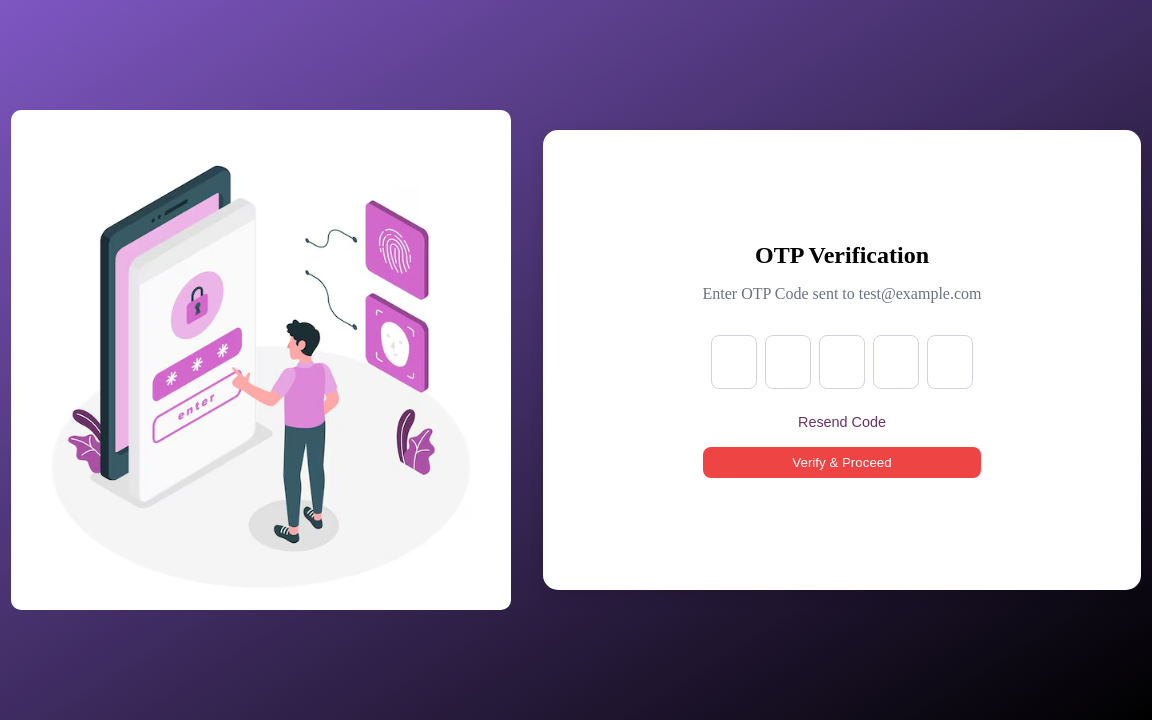
Test case: OTPVerification Component › successfully verifies OTP and navigates to sign-in
The image size is (1152, 720).
# Fill in OTP inputs with digits "1", "2", "3", "4", "5"
Type "1" into the 1st field. click: (734, 362)
box: top-left (711, 335), bottom-right (757, 389)
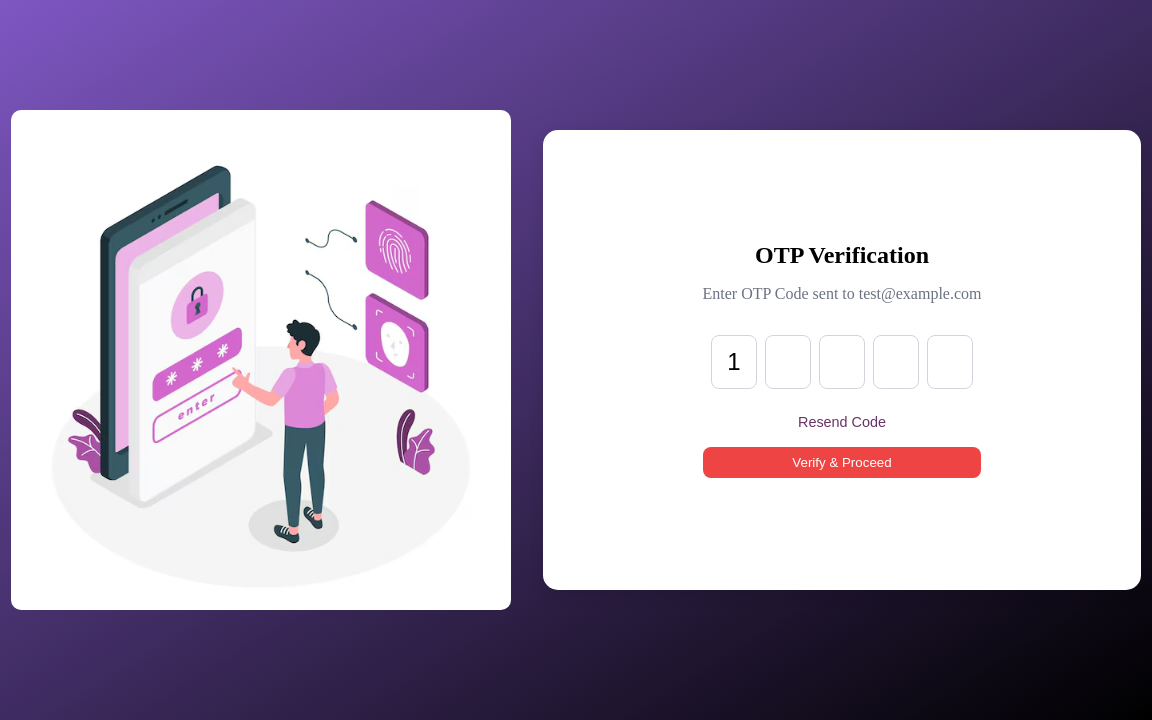
Type "2" into the 2nd field. click: (788, 362)
box: top-left (765, 335), bottom-right (811, 389)
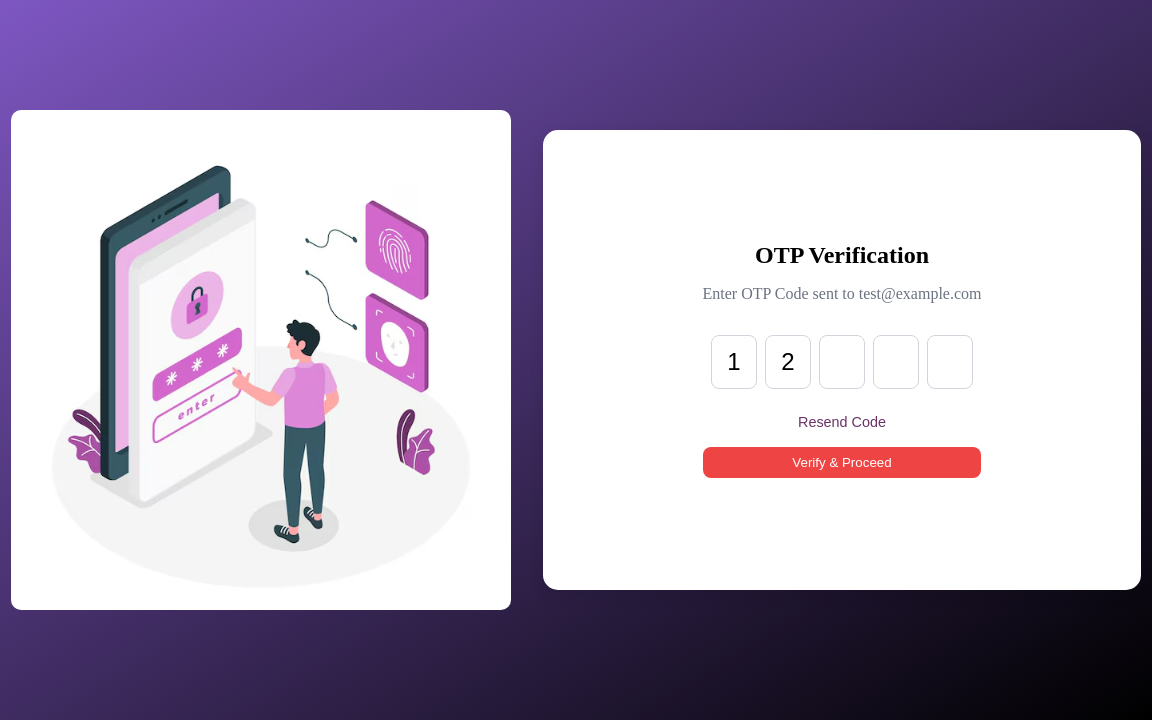
Type "3" into the 3rd field. click: (842, 362)
box: top-left (819, 335), bottom-right (865, 389)
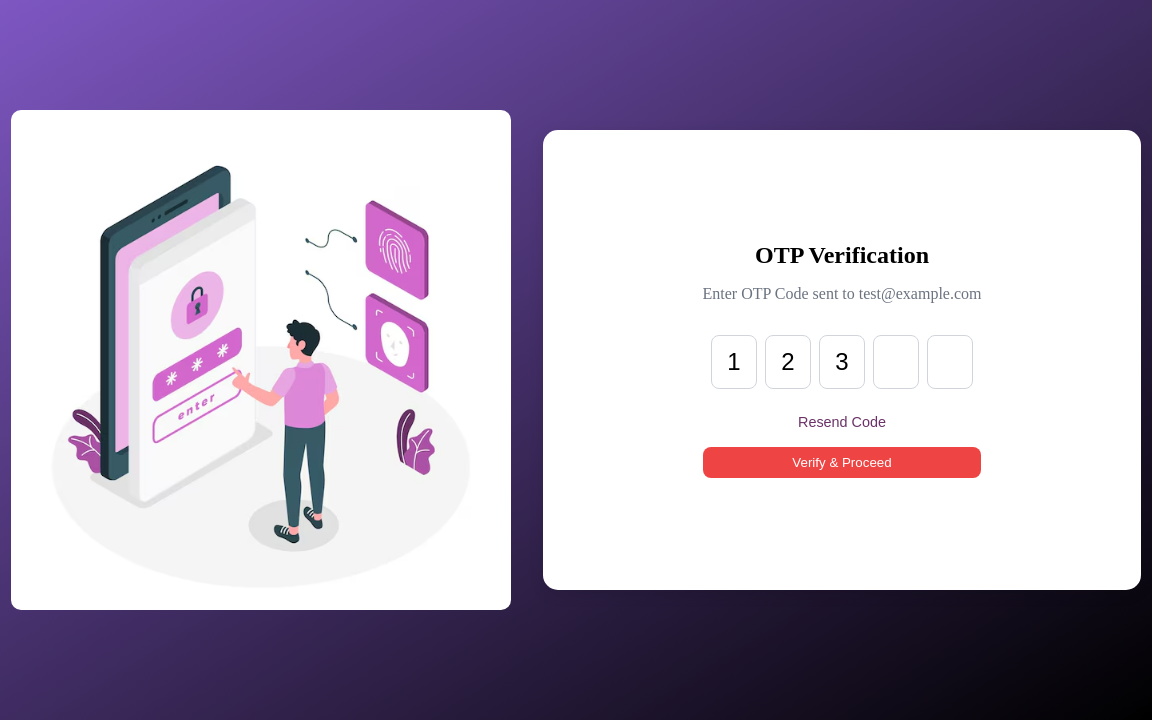
Type "4" into the 4th field. click: (896, 362)
box: top-left (873, 335), bottom-right (919, 389)
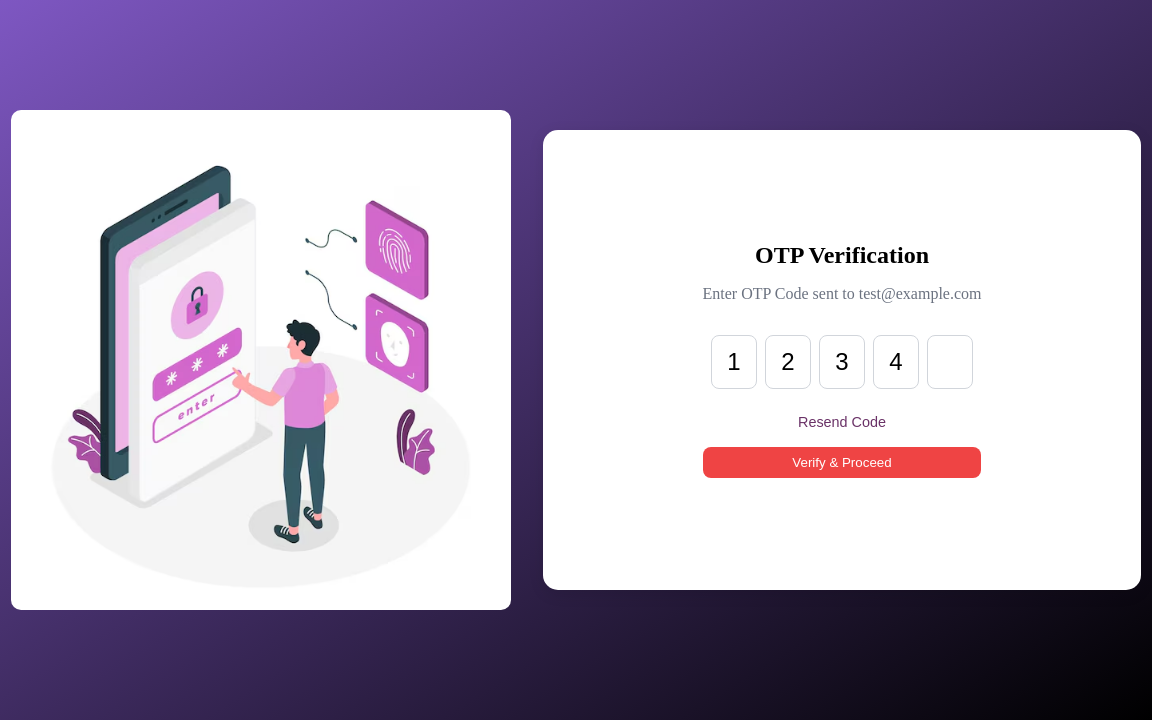
Type "5" into the 5th field. click: (950, 362)
box: top-left (927, 335), bottom-right (973, 389)
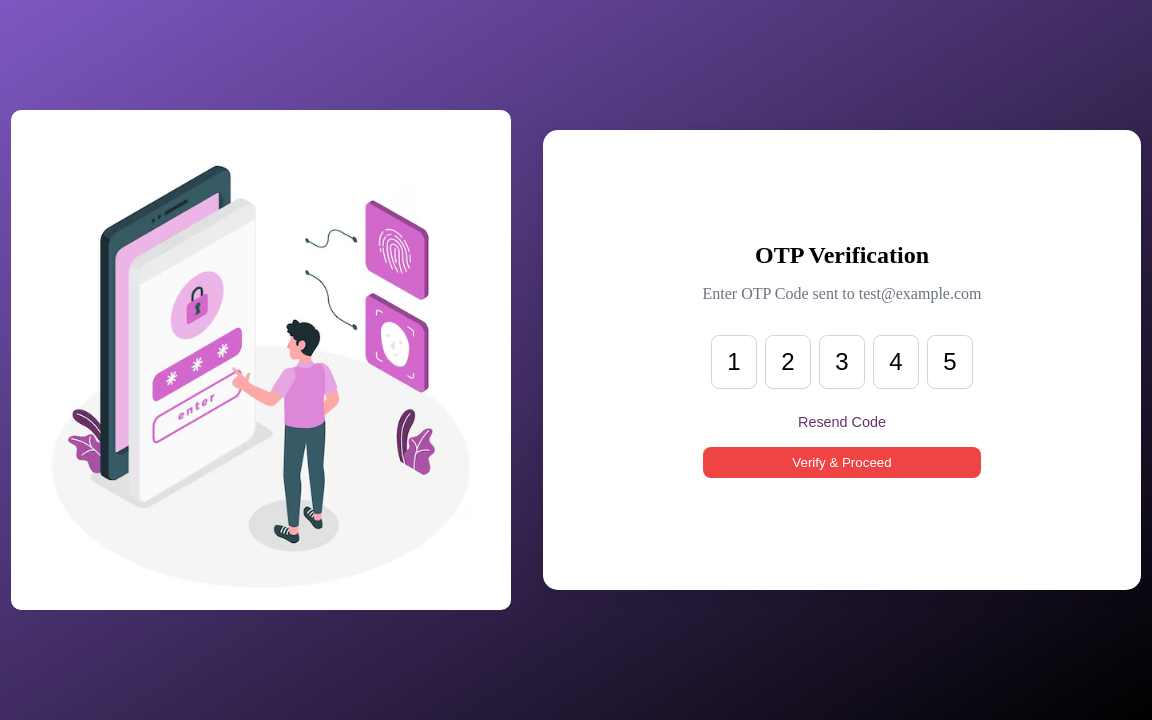
Click the button "Verify & Proceed". click: click(842, 462)
box: top-left (702, 447), bottom-right (982, 478)
Wait 2000 ms
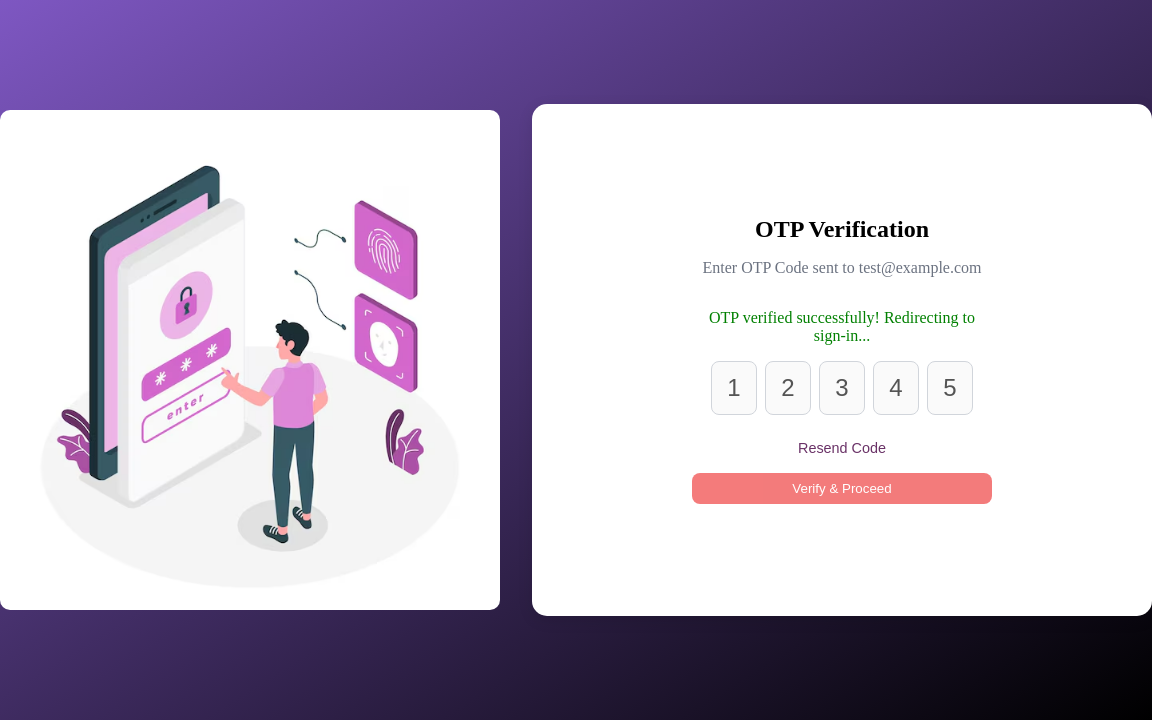
Check: the text "OTP verified successfully! Redirecting to sign-in..." is shown, box top-left (692, 309), bottom-right (992, 345)
